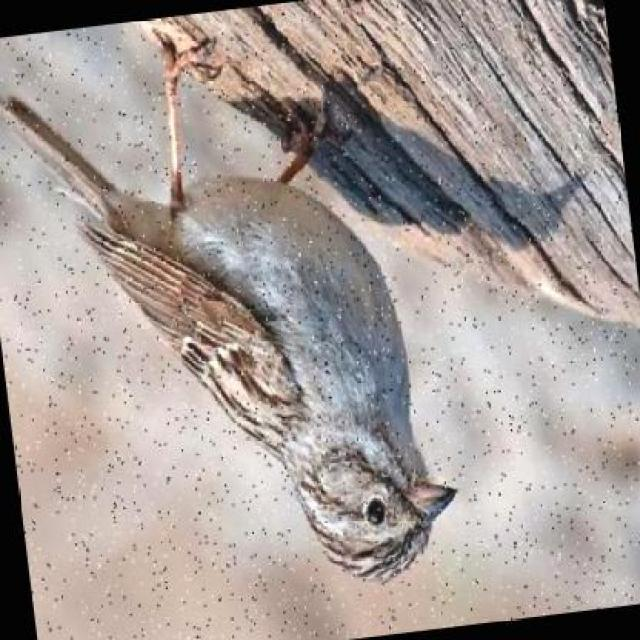Bird: (0, 71, 465, 577)
